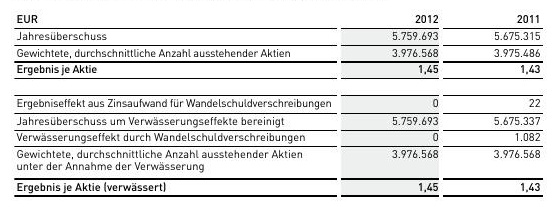table: (0, 0, 556, 207)
